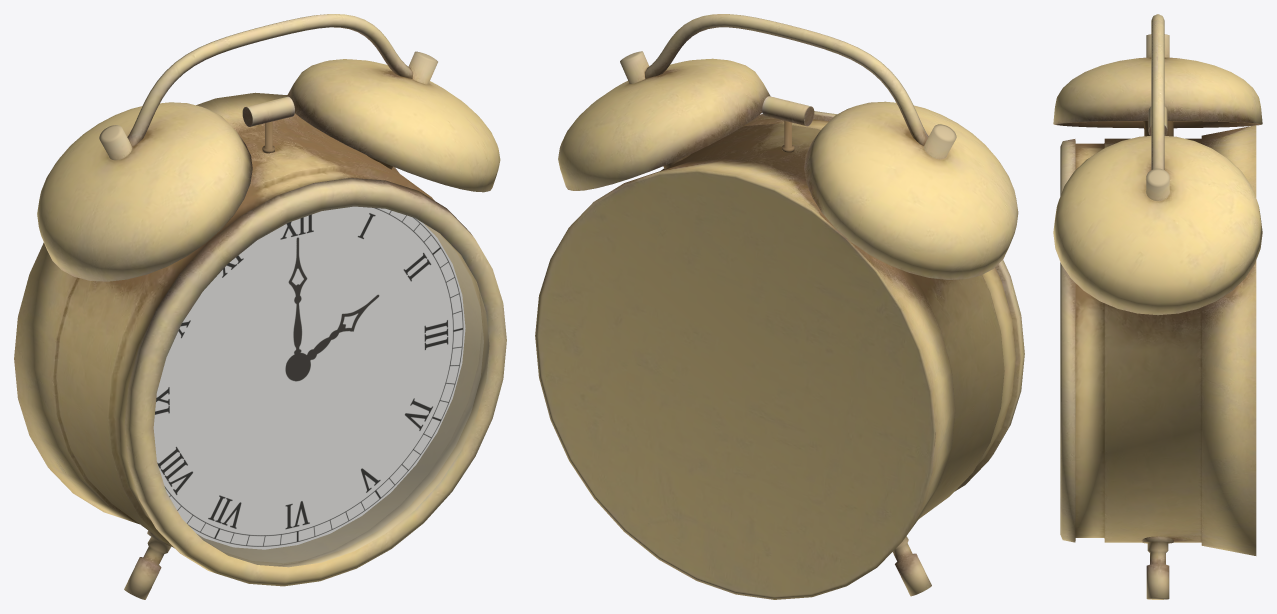
3 renders of one model, left to right at view 1: azimuth 30°, elevation 25°; view 2: azimuth 150°, elevation 25°; view 3: azimuth 270°, elevation 25°, orthographic. The views are drawn at different scales.
Visible parts, largest first — view 1: SM_OldAlrmClock; view 2: SM_OldAlrmClock; view 3: SM_OldAlrmClock.
Boxes of the visible parts, box(x1,y1,x2,y2) form: SM_OldAlrmClock: box(14, 14, 506, 599); SM_OldAlrmClock: box(535, 14, 1024, 599); SM_OldAlrmClock: box(1053, 14, 1262, 599).
Bounding box in the file's own units: 0.1702 × 0.2045 × 0.0773.
Materials: 3 (2 with a texture image).
